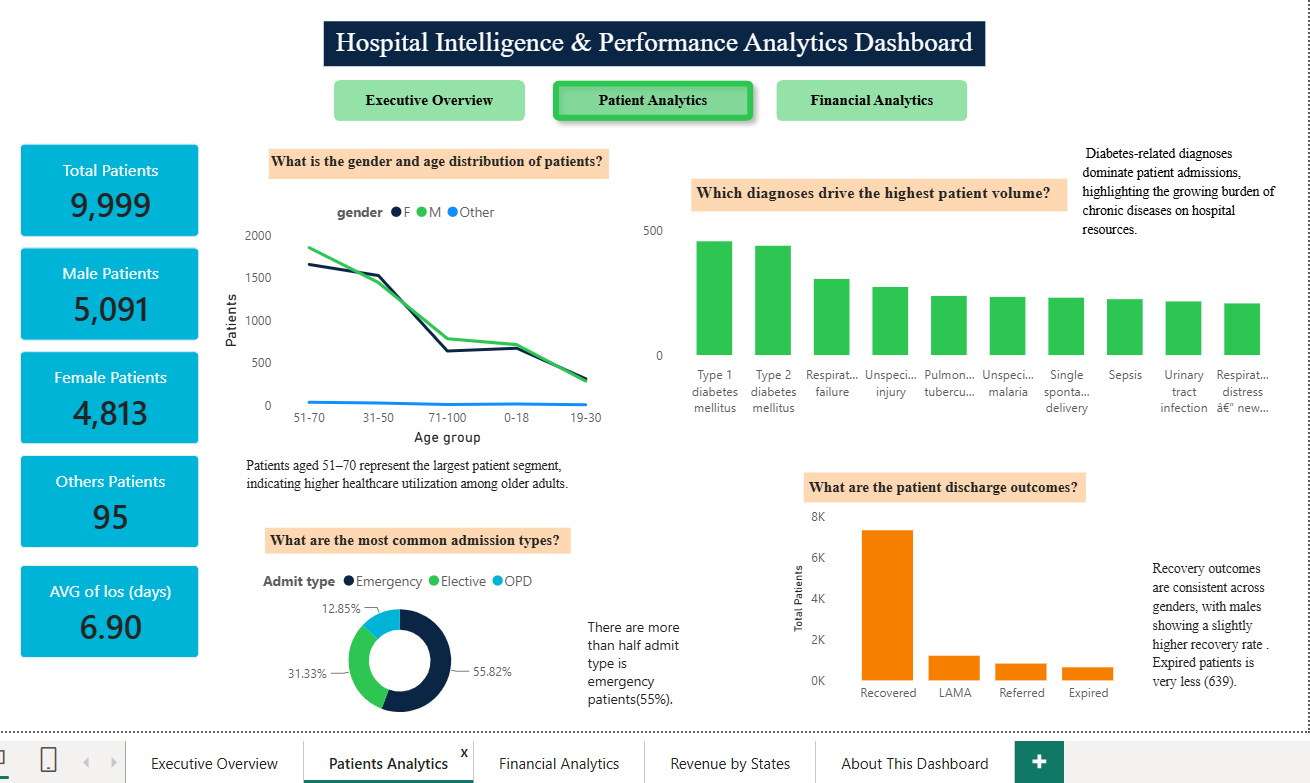

Layout of this report page (visuals, bound fields, positions):
{"tool":"powerbi","page":{"name":"Patients Analytics","canvas":[1280,720],"ordinal":1},"visuals":[{"type":"textbox","box":[316.7,25.7,646.9,44],"z":0},{"type":"cardVisual","fields":{"Data":["public hospital_data.Total Patients"]},"box":[14.7,140.6,185.9,101.5],"z":1000},{"type":"cardVisual","fields":{"Data":["public hospital_data.Male"]},"box":[14.7,242.1,185.9,101.5],"z":2000},{"type":"cardVisual","fields":{"Data":["public hospital_data.Female"]},"box":[14.7,343.6,185.9,101.5],"z":3000},{"type":"cardVisual","fields":{"Data":["public hospital_data.Others"]},"box":[14.7,445.1,185.9,101.5],"z":4000},{"type":"actionButton","box":[326.5,83.2,187.1,40.4],"z":5000},{"type":"actionButton","box":[531.9,74.6,214,57.5],"z":6000},{"type":"actionButton","box":[759.4,83.2,187.1,40.4],"z":7000},{"type":"lineChart","fields":{"Category":["public hospital_data.Age_group"],"Y":["public hospital_data.Total Patients"],"Series":["public hospital_data.gender"]},"box":[212.8,192,392.5,253.1],"z":8000},{"type":"textbox","box":[262.9,150.4,332.6,29.3],"z":9000},{"type":"textbox","box":[259.2,518.5,299.6,28.1],"z":10000},{"type":"textbox","box":[786.3,467.1,276.4,29.3],"z":11000},{"type":"textbox","box":[1122.6,546.6,129.6,154.1],"z":12000},{"type":"textbox","box":[569.8,604.1,106.4,100.3],"z":13000},{"type":"textbox","box":[236,445.1,348.5,75.8],"z":14000},{"type":"cardVisual","fields":{"Data":["Avg(public hospital_data.los_days)"]},"box":[14.7,552.7,185.9,101.5],"z":15000},{"type":"donutChart","fields":{"Category":["public hospital_data.admit_type"],"Y":["public hospital_data.Total Patients"]},"box":[212.8,552.7,357.1,167.5],"z":16000},{"type":"columnChart","fields":{"Category":["public hospital_data.discharge_type"],"Y":["public hospital_data.Total Patients"]},"box":[770.4,496.5,352.2,204.2],"z":17000},{"type":"lineClusteredColumnComboChart","fields":{"Category":["public hospital_data.diagnosis"],"Y":["public hospital_data.Total Patients"]},"box":[623.6,192,638.3,227.4],"z":18000},{"type":"textbox","box":[676.2,179.8,368.1,31.8],"z":19000},{"type":"textbox","box":[1054.1,140.6,207.9,101.5],"z":20000}]}

Visuals, with their boxes on the page's 1280x720 design canvas (x1, y1, x2, y2). These are canvas units, not pixel positions in the 1310x783 screenshot, which may show the page scaled, cropped or inside an application window:
textbox: BBox(317, 26, 964, 70)
cardVisual - public hospital_data.Total Patients: BBox(15, 141, 201, 242)
cardVisual - public hospital_data.Male: BBox(15, 242, 201, 344)
cardVisual - public hospital_data.Female: BBox(15, 344, 201, 445)
cardVisual - public hospital_data.Others: BBox(15, 445, 201, 547)
actionButton: BBox(326, 83, 514, 124)
actionButton: BBox(532, 75, 746, 132)
actionButton: BBox(759, 83, 946, 124)
lineChart - public hospital_data.Age_group x public hospital_data.Total Patients: BBox(213, 192, 605, 445)
textbox: BBox(263, 150, 596, 180)
textbox: BBox(259, 518, 559, 547)
textbox: BBox(786, 467, 1063, 496)
textbox: BBox(1123, 547, 1252, 701)
textbox: BBox(570, 604, 676, 704)
textbox: BBox(236, 445, 584, 521)
cardVisual - Avg(public hospital_data.los_days): BBox(15, 553, 201, 654)
donutChart - public hospital_data.admit_type x public hospital_data.Total Patients: BBox(213, 553, 570, 720)
columnChart - public hospital_data.discharge_type x public hospital_data.Total Patients: BBox(770, 496, 1123, 701)
lineClusteredColumnComboChart - public hospital_data.diagnosis x public hospital_data.Total Patients: BBox(624, 192, 1262, 419)
textbox: BBox(676, 180, 1044, 212)
textbox: BBox(1054, 141, 1262, 242)
